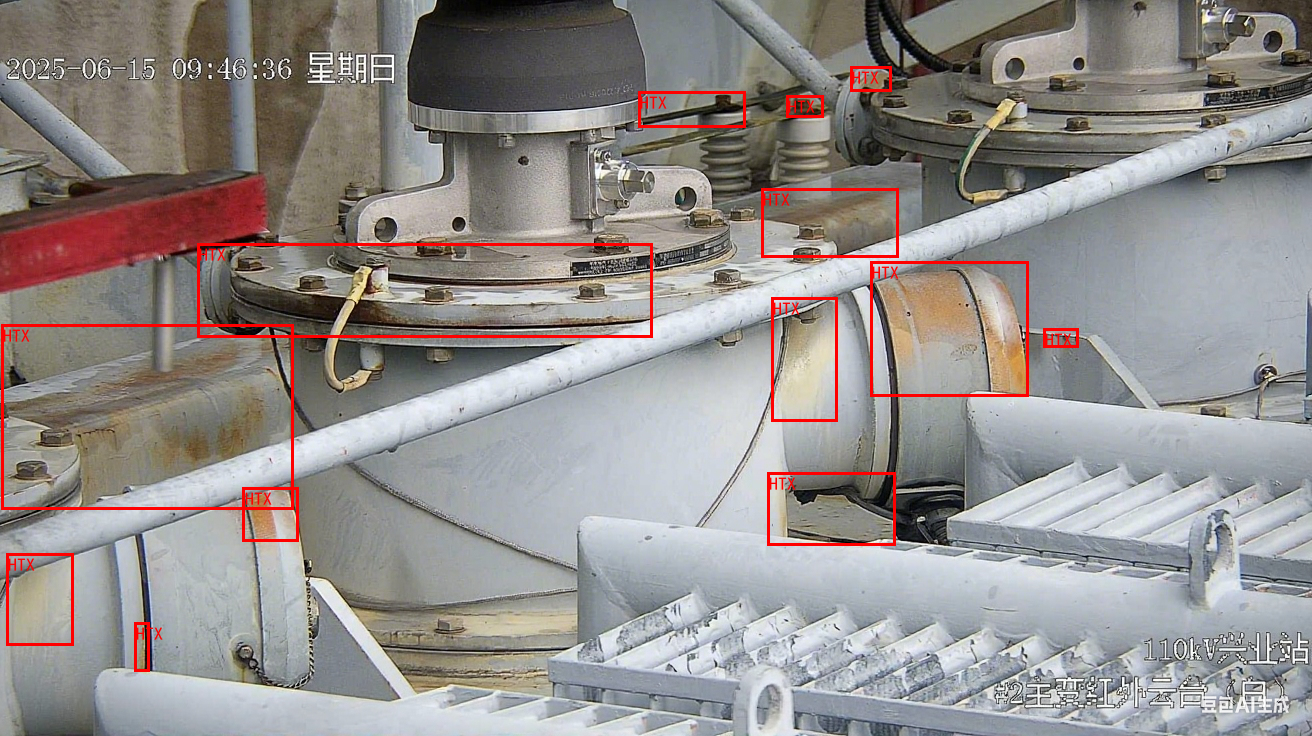HTX: (1, 324, 293, 509), (197, 243, 653, 337), (870, 261, 1028, 396), (761, 188, 898, 257), (767, 472, 895, 545), (771, 297, 837, 421), (6, 553, 73, 645), (638, 91, 745, 127), (243, 487, 298, 541), (850, 66, 891, 91), (786, 95, 823, 117), (134, 622, 149, 671), (1043, 328, 1078, 347)
